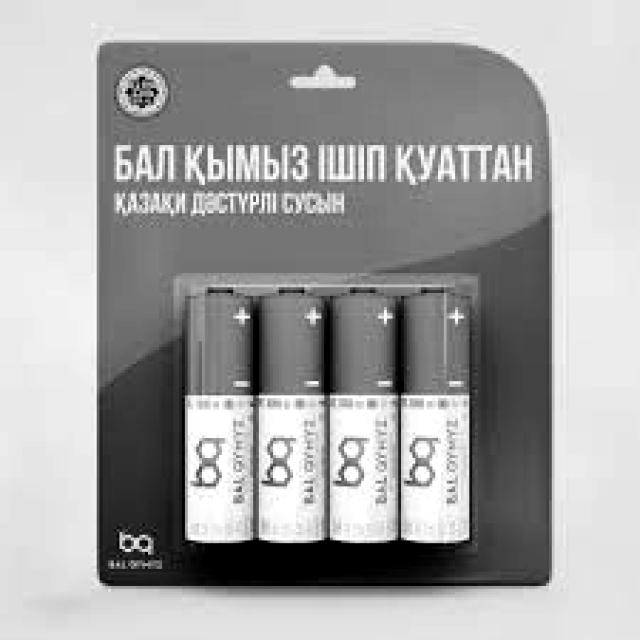balqymyz: (189, 408, 259, 511), (408, 416, 470, 515), (264, 416, 329, 508), (339, 416, 393, 510)
